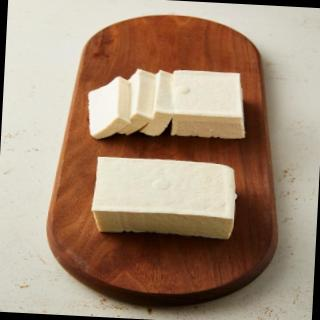Tahu: (70, 67, 270, 242)
